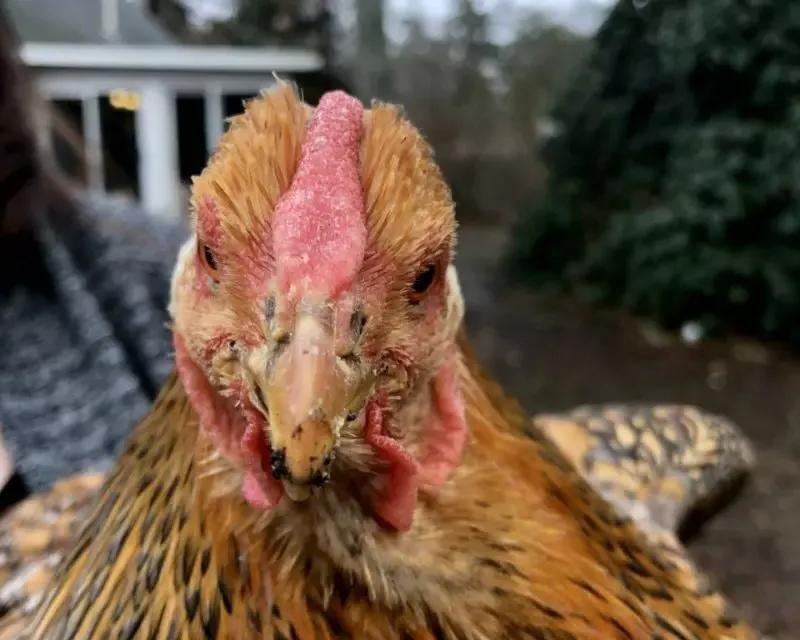AbNormal: (269, 85, 369, 300)
